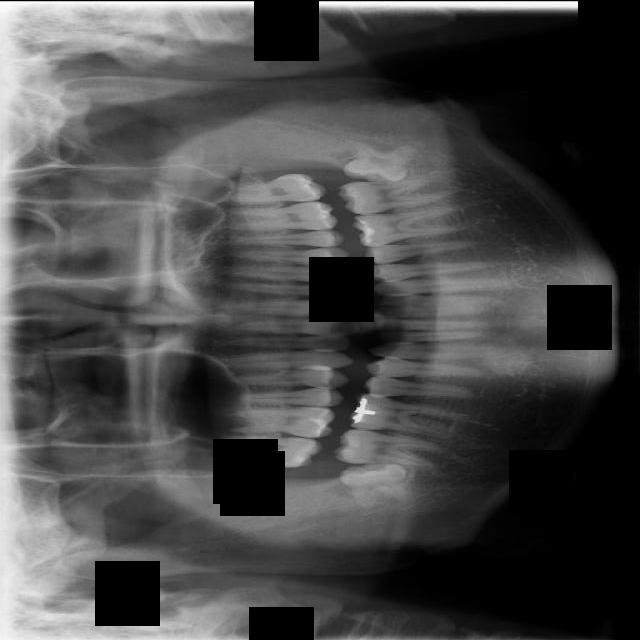52: (346, 395, 376, 424), (355, 215, 378, 244)
73: (545, 92, 560, 98)
BioHorizons Implant: (228, 173, 326, 202)
Biomet 3i Implant: (343, 142, 414, 184)
Blue Sky Bio Implant: (337, 176, 449, 215)
Caries: (222, 436, 324, 466)
Implant: (332, 424, 438, 472)
Keystone Dental Implant: (338, 458, 408, 509)
